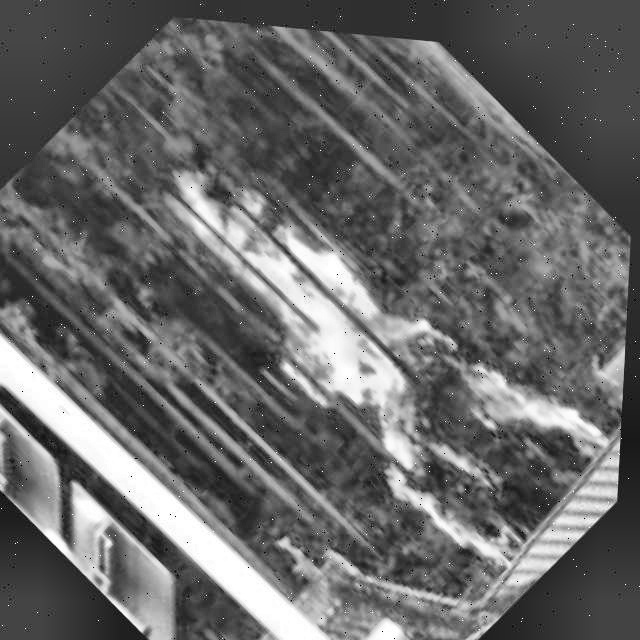Fire: (109, 75, 629, 584)
